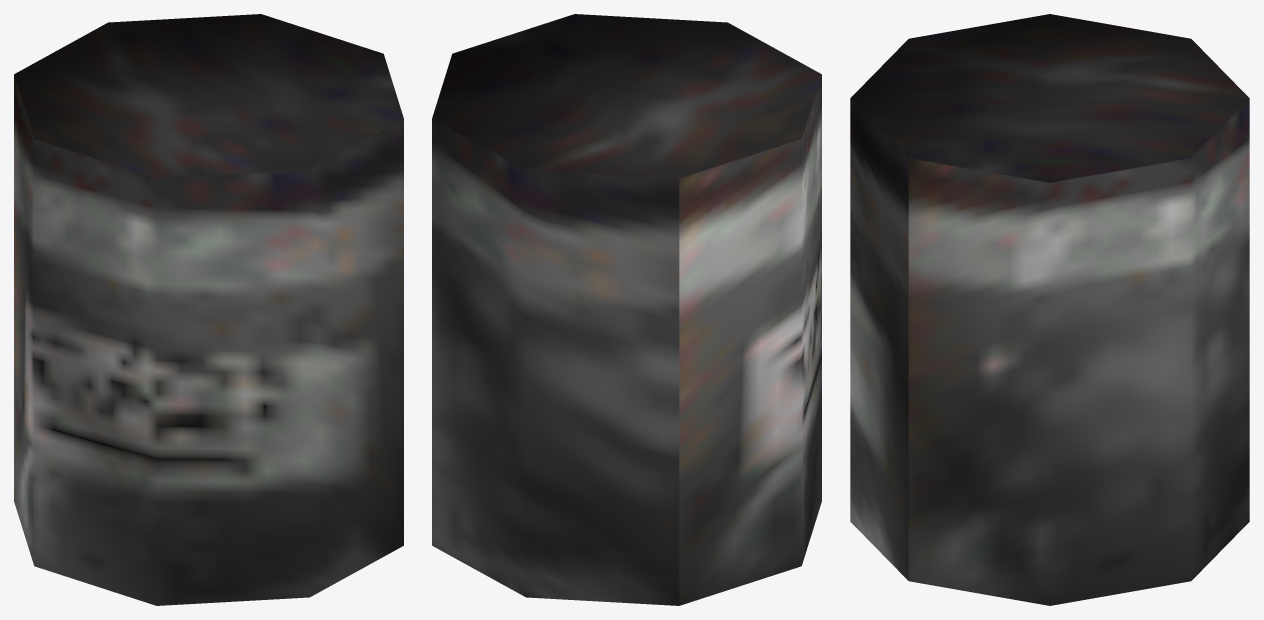
File: biogel.obj
3 renders of one model, left to right at view 1: azimuth 30°, elevation 25°; view 2: azimuth 150°, elevation 25°; view 3: azimuth 270°, elevation 25°, orthographic.
Parts seen in each view (by area): view 1: cylinder1; view 2: cylinder1; view 3: cylinder1.
Part boxes in pixels (x1=…): cylinder1: x1=14, y1=14, x2=403, y2=605; cylinder1: x1=432, y1=14, x2=821, y2=605; cylinder1: x1=850, y1=14, x2=1249, y2=605.
Size of the model in its own units: 2 by 2.34 by 2.
Materials: 1 (1 with a texture image).
